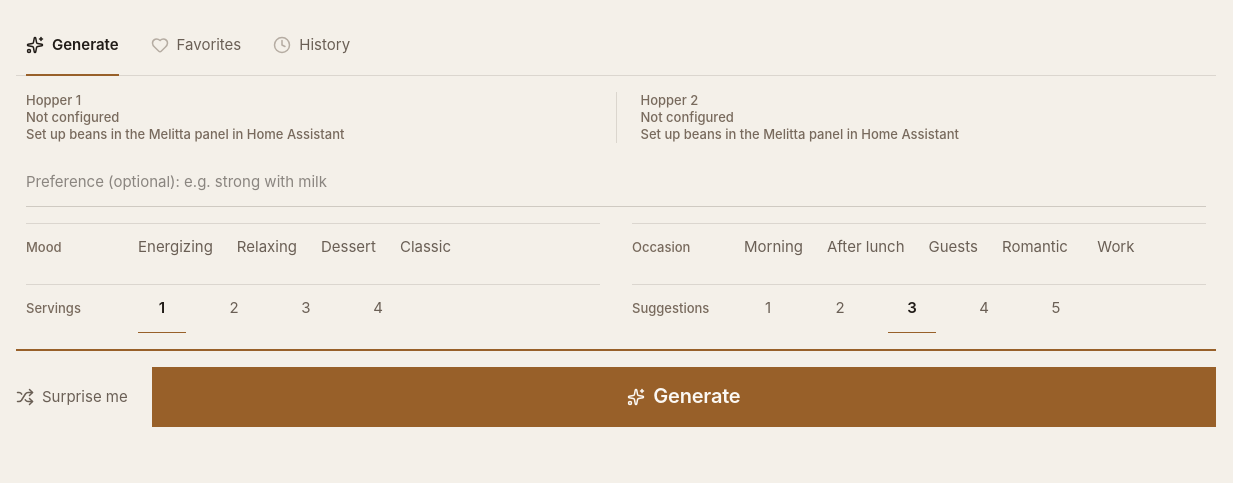
Test: SommelierSection generate error banner › shows the unauthorized admin hint on generate (§9.2.6.6)
Click the button "Surprise me" at (72, 397), box x1=16 y1=373 x2=128 y2=421
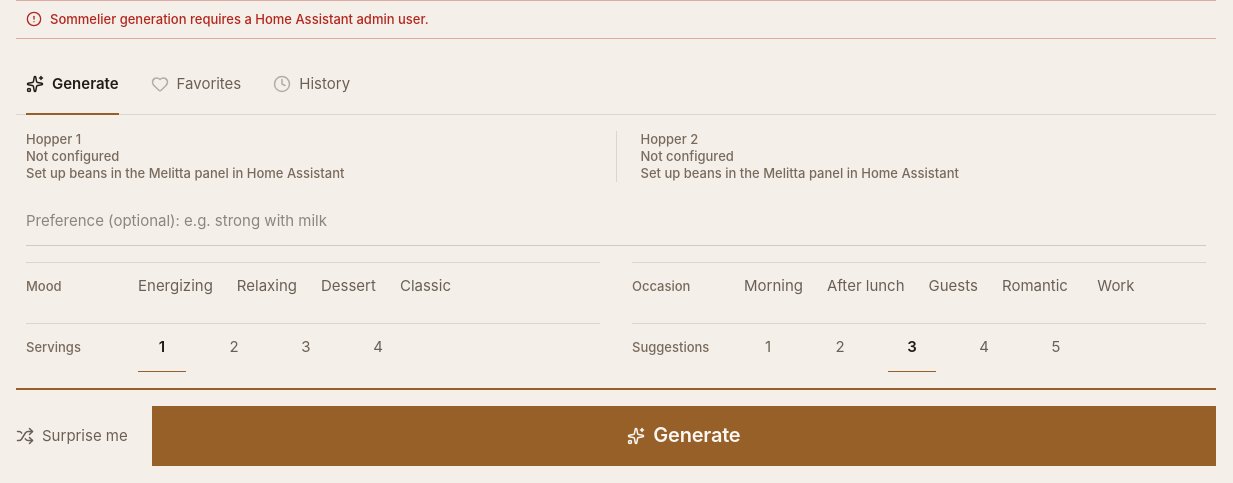
Expected: the message reads "Sommelier generation requires a Home Assistant admin user.", x1=50 y1=11 x2=429 y2=27
